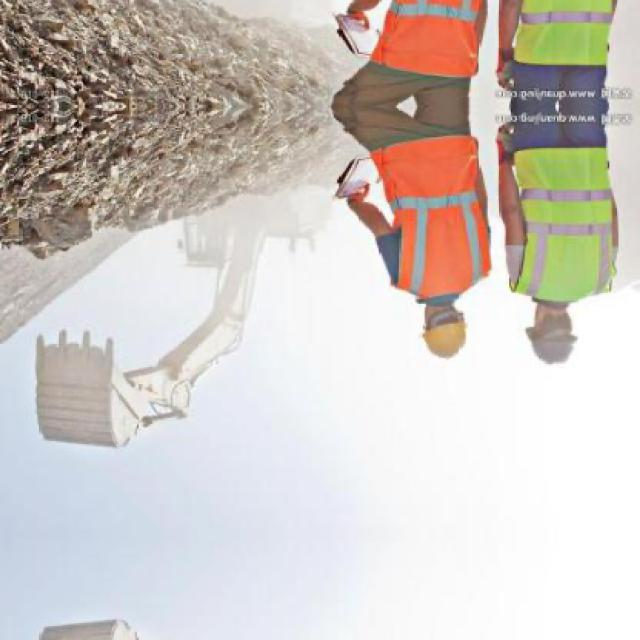con casco: (383, 252, 474, 364), (510, 276, 603, 366)
